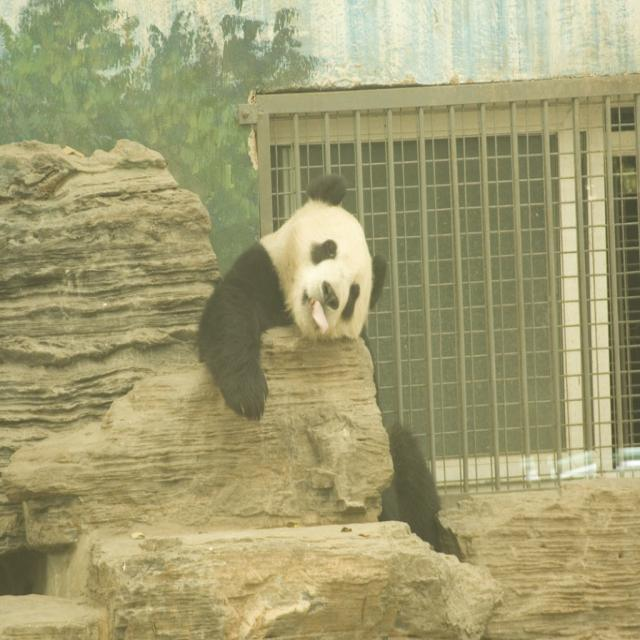panda: (193, 170, 464, 558)
